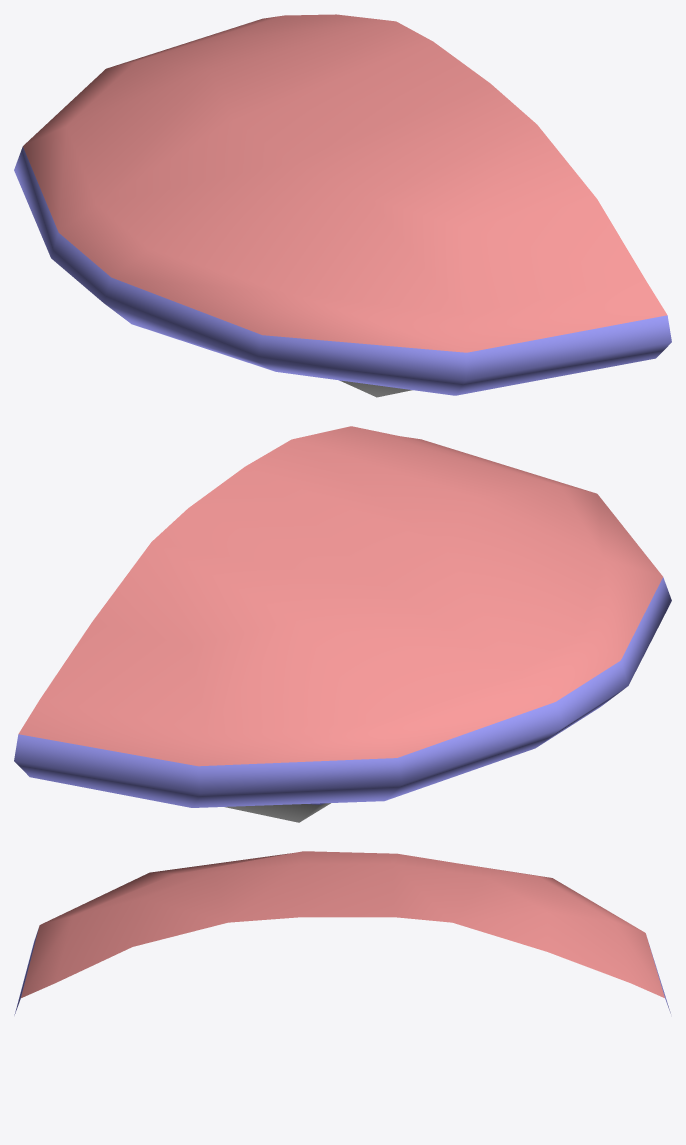
Rendered from mush_01.gltf.
3 views of the same model, one above another, from view 1: azimuth 30°, elevation 25°; view 2: azimuth 150°, elevation 25°; view 3: azimuth 270°, elevation 25° (orthographic). The views are drawn at different scales.
Visible parts, largest first — view 1: mush_01; view 2: mush_01; view 3: mush_01.
Boxes of the visible parts, box(x1,y1,x2,y2) form: mush_01: box(14, 14, 671, 397); mush_01: box(14, 426, 671, 822); mush_01: box(14, 851, 670, 1015).
Bounding box in the file's own units: 1.35 × 0.8971 × 2.5.
